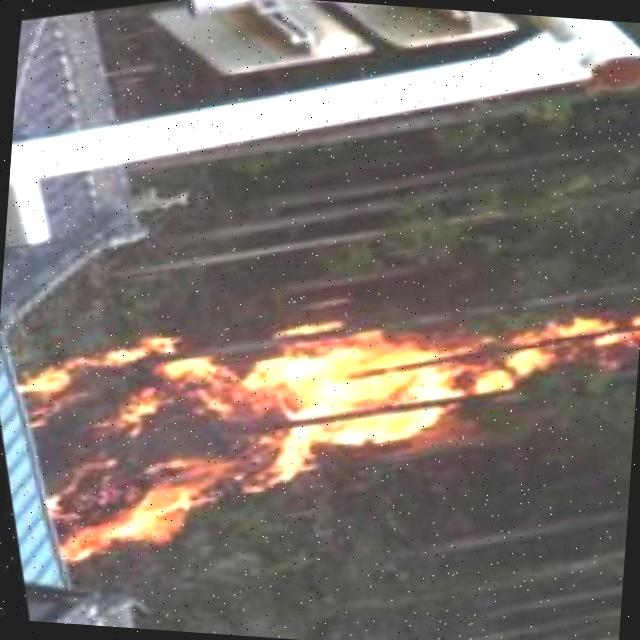fire: (0, 176, 640, 619)
